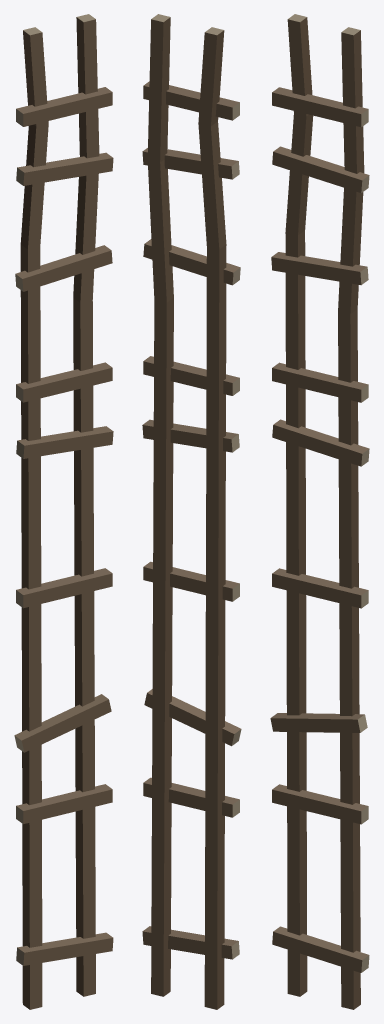
File: SD_Prop_Goblin_Ladder_01.fbx
The picture shows the model from 3 angles, left to right: view 1: azimuth 30°, elevation 25°; view 2: azimuth 150°, elevation 25°; view 3: azimuth 330°, elevation 25°; orthographic projection.
Visible parts, largest first — view 1: SD_Prop_Goblin_Ladder_01; view 2: SD_Prop_Goblin_Ladder_01; view 3: SD_Prop_Goblin_Ladder_01.
Boxes of the visible parts, x1,y1,x2,y2 form: SD_Prop_Goblin_Ladder_01: [14, 14, 113, 1009]; SD_Prop_Goblin_Ladder_01: [142, 14, 241, 1009]; SD_Prop_Goblin_Ladder_01: [270, 14, 369, 1009].
Size of the model in its own units: 1.54 by 15.6 by 0.3371.
